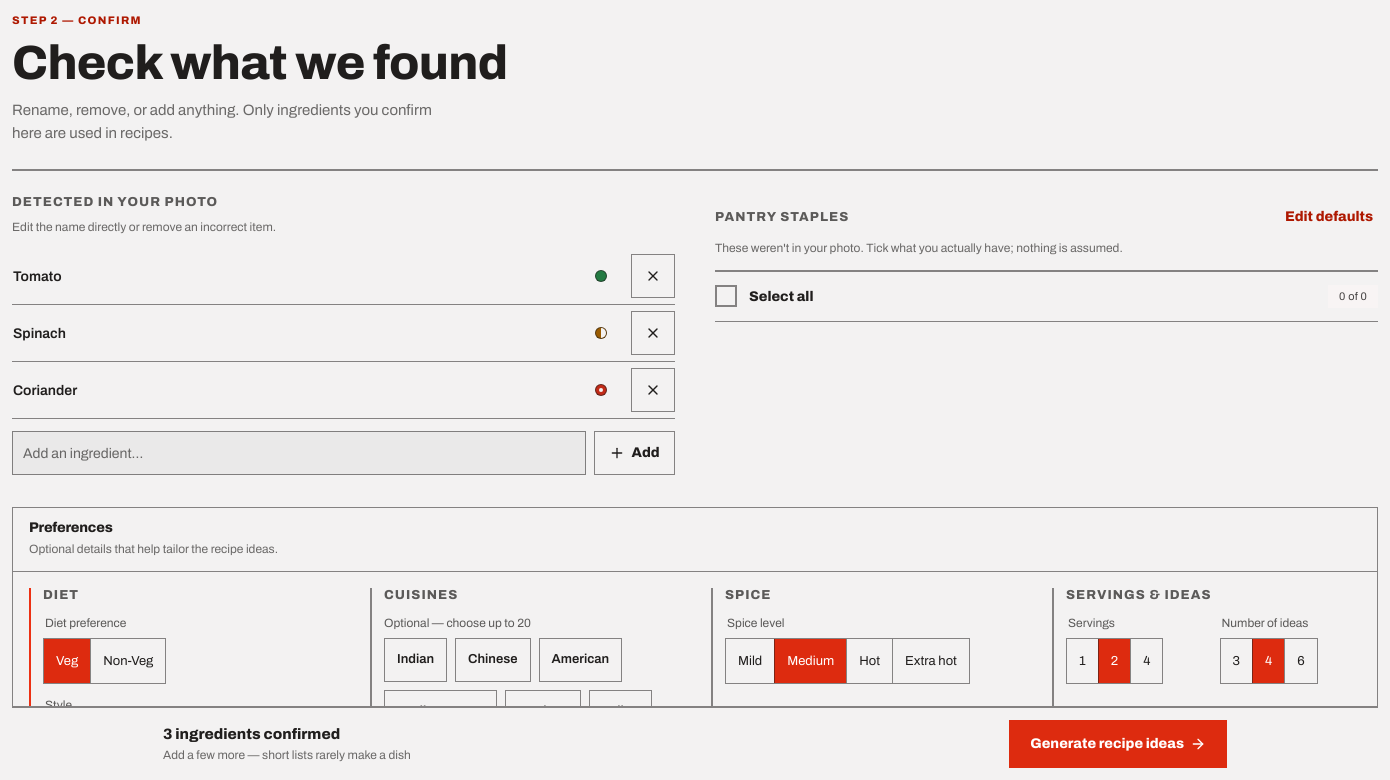
Test: ConfirmScreen confidence indicators › toggles the confidence details and dismisses them with Escape
Step 1. Click the button named "Confidence: high, 80 percent" → (601, 276), box [579, 254, 623, 298]
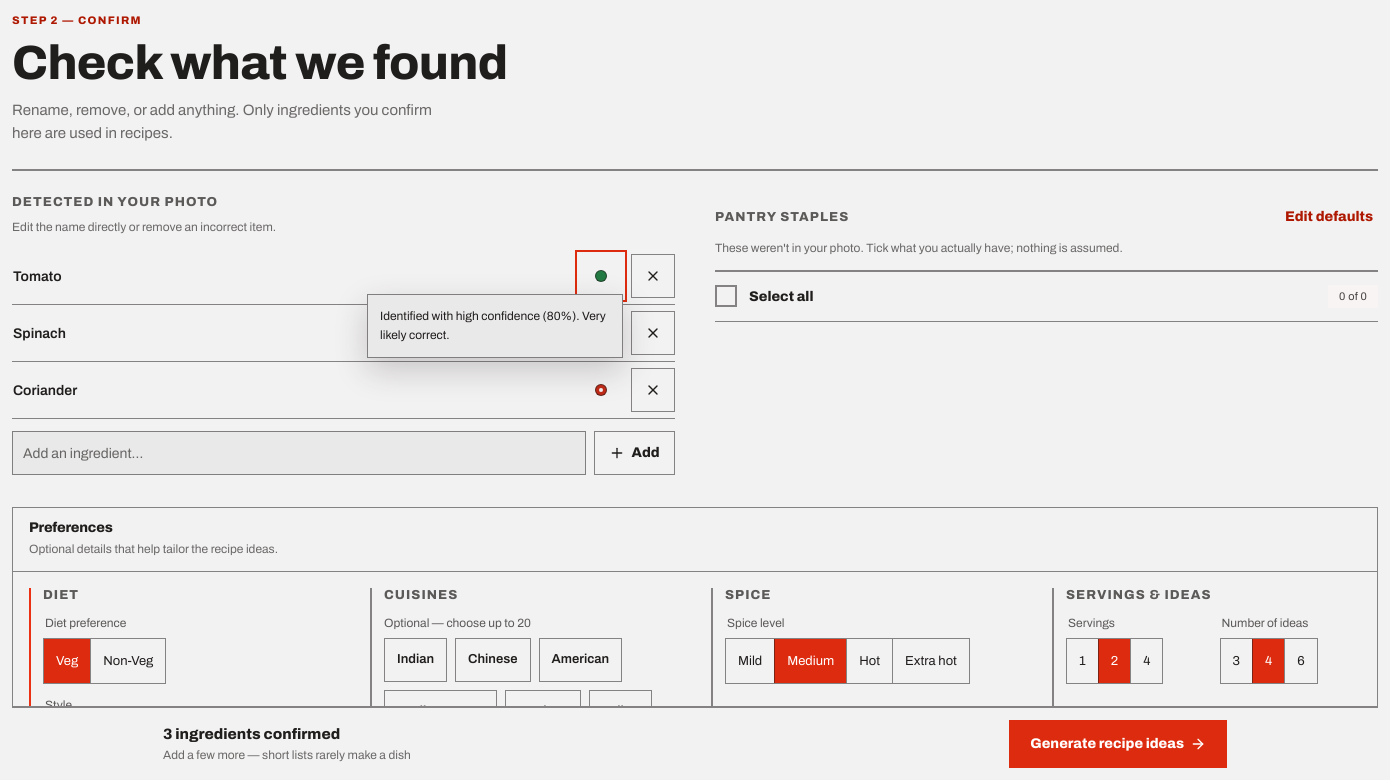
expect the button named "Confidence: high, 80 percent" is expanded: met
expect the tooltip reads "Identified with high confidence (80%). Very likely correct.": met, box [380, 309, 606, 342]
Step 2. Click the button named "Confidence: high, 80 percent" → (601, 276), box [579, 254, 623, 298]
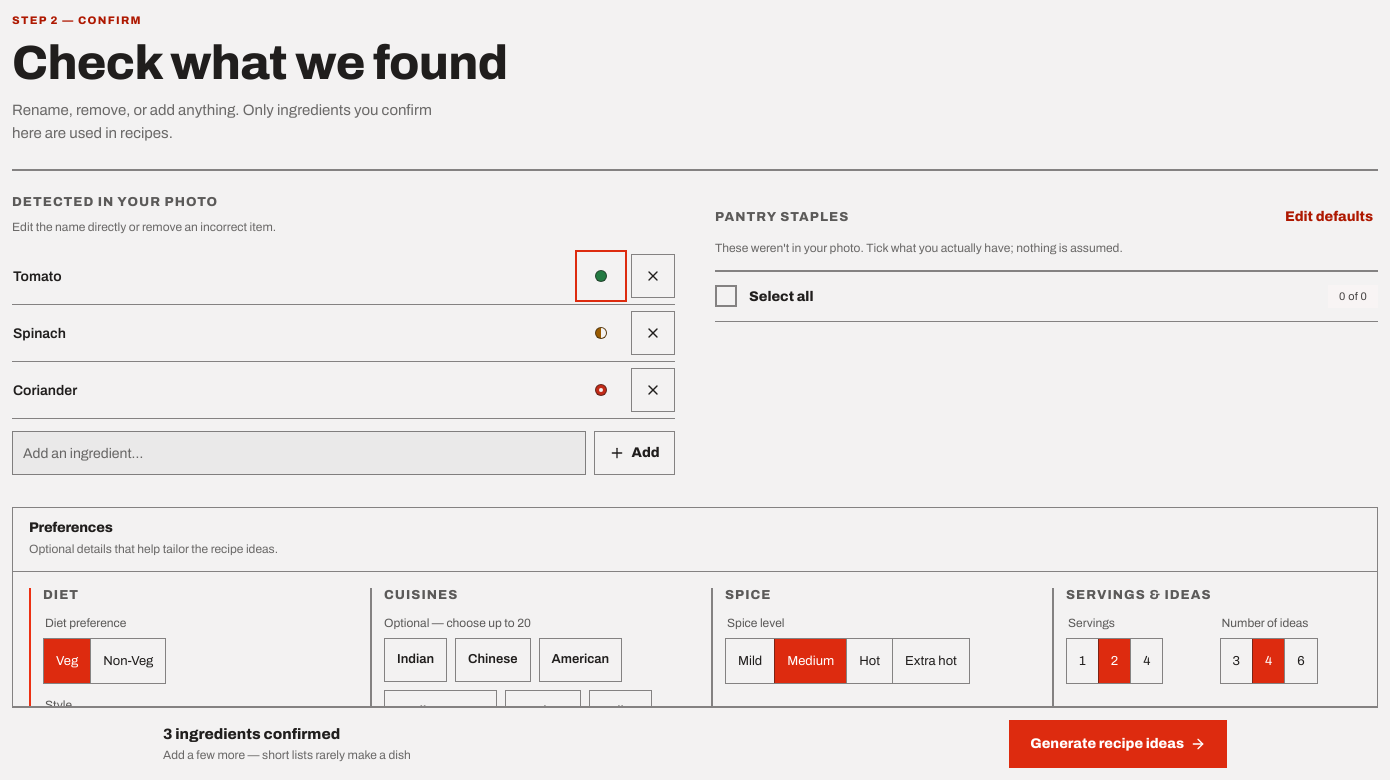
expect the tooltip "Identified with high confidence (80%). Very likely correct." is gone: met
Step 3. Click the button named "Confidence: high, 80 percent" → (601, 276), box [579, 254, 623, 298]
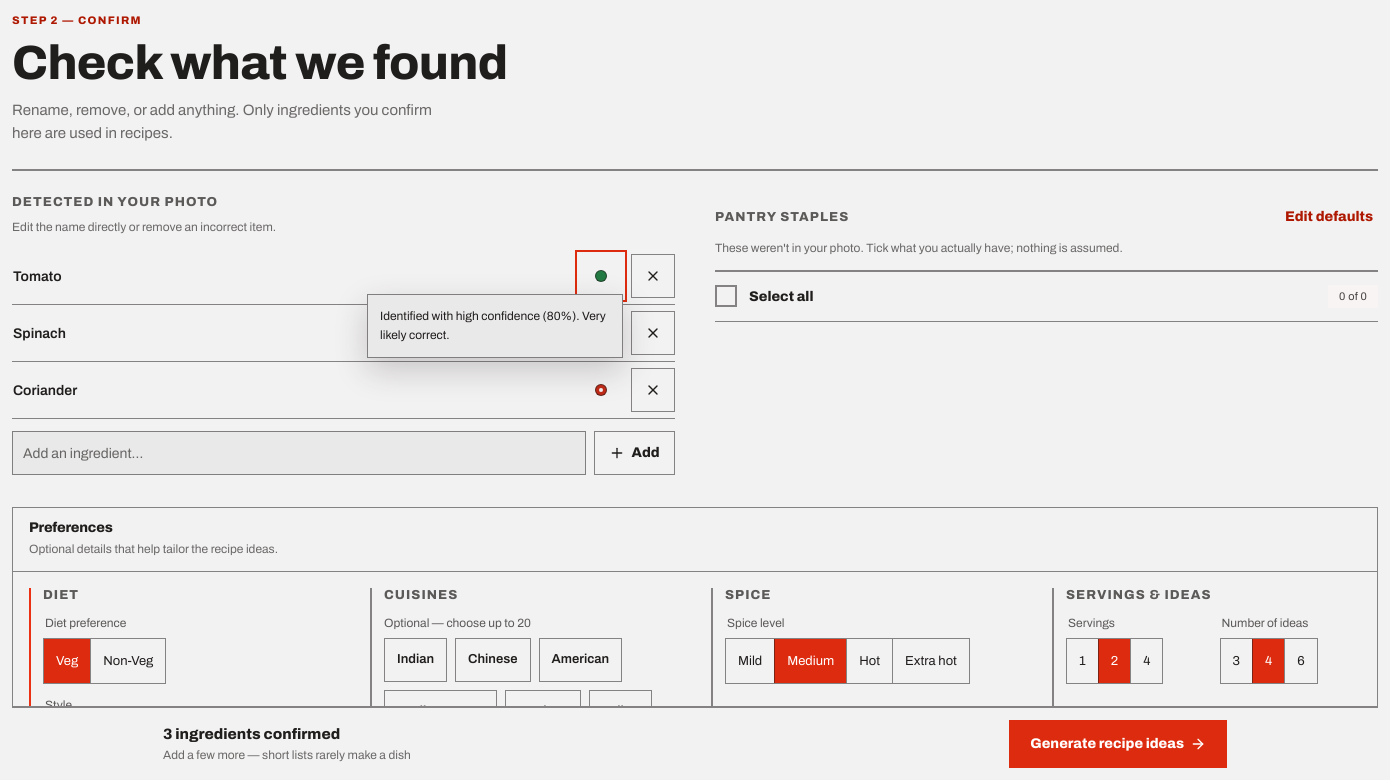
Step 4. Press Escape
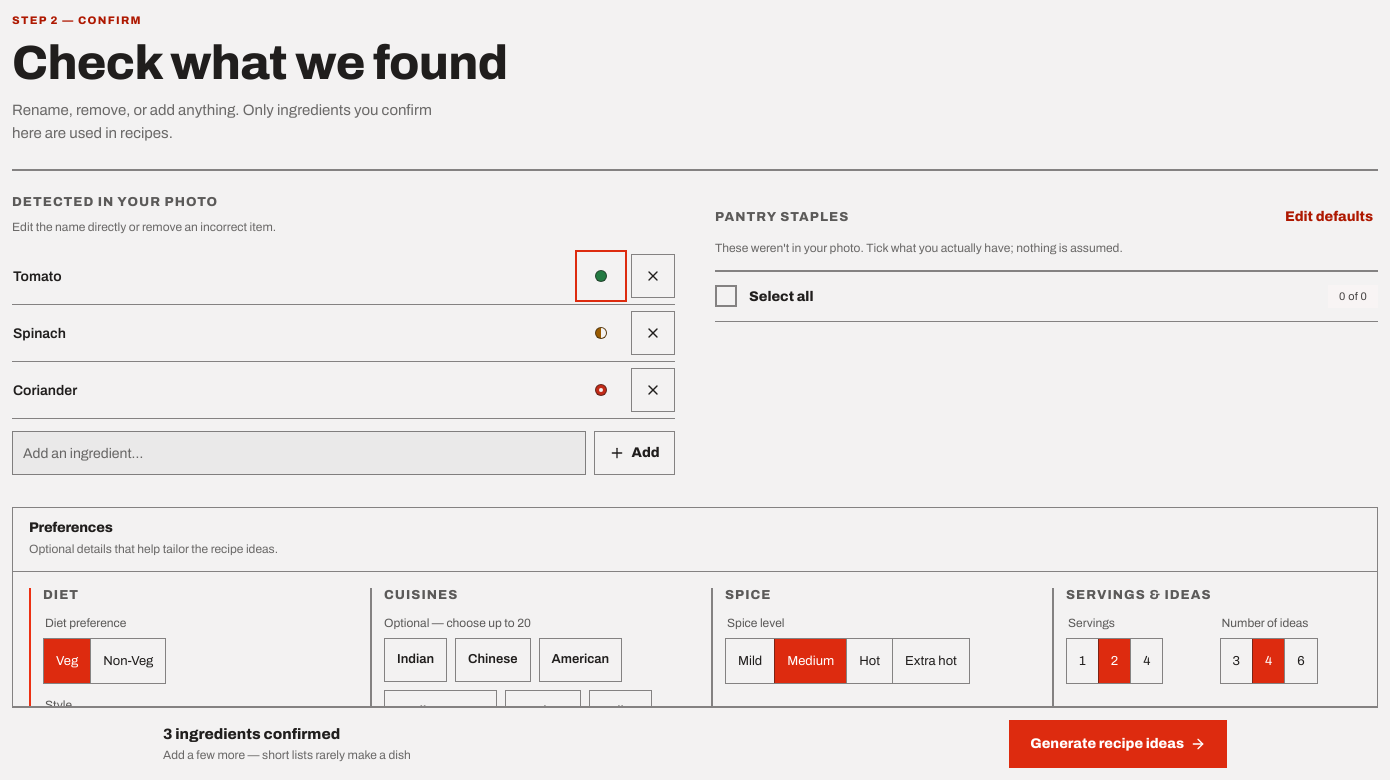
expect the button named "Confidence: high, 80 percent" is collapsed: met, box [579, 254, 623, 298]
expect the tooltip "Identified with high confidence (80%). Very likely correct." is gone: met
